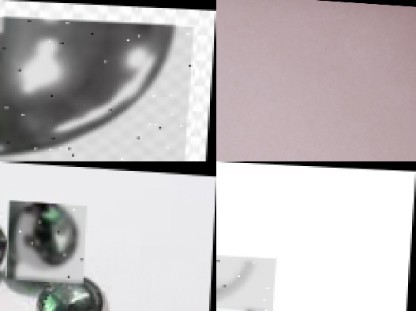ironball: (0, 17, 194, 161), (7, 200, 87, 283), (216, 255, 277, 311), (37, 270, 117, 311), (0, 209, 13, 286)
